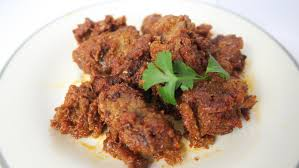rendang: (40, 4, 258, 166)
